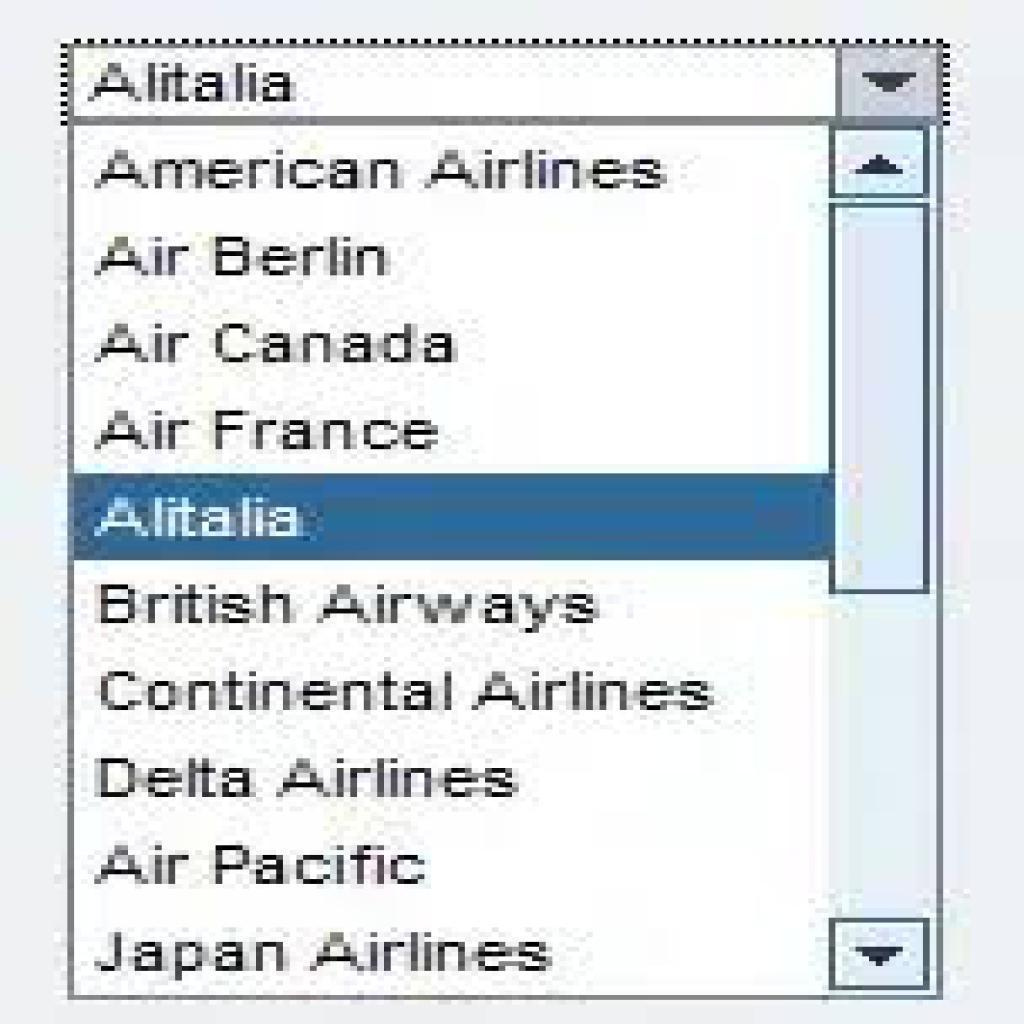dropdown: (64, 40, 944, 124)
